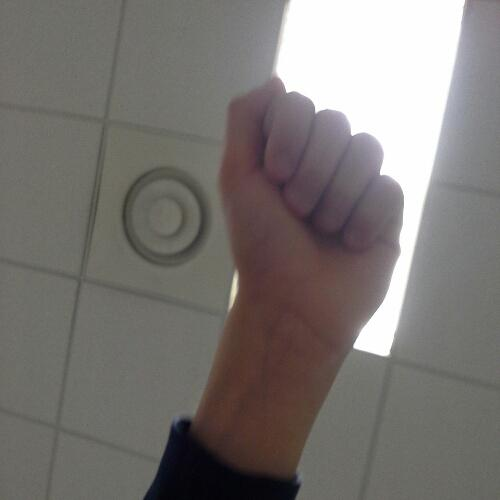rock: (210, 67, 412, 344)
